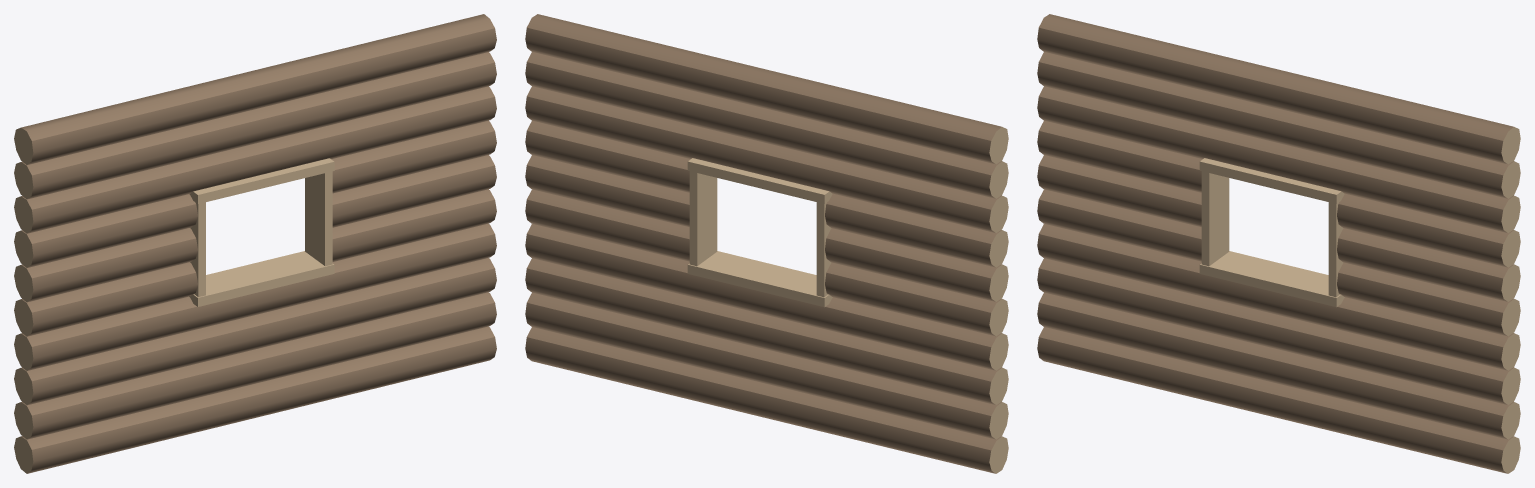
The model's file is log_wall_window_diagonal.glb.
3 views of the same model, side by side, from view 1: azimuth 30°, elevation 25°; view 2: azimuth 150°, elevation 25°; view 3: azimuth 330°, elevation 25° (orthographic).
Visible parts, largest first — view 1: Wall; view 2: Wall; view 3: Wall.
Part boxes in pixels (bbox=[...]): Wall: bbox=[14, 14, 496, 473]; Wall: bbox=[525, 14, 1008, 473]; Wall: bbox=[1037, 14, 1520, 473].
Bounding box in the file's own units: 4.24 × 3 × 0.34.
